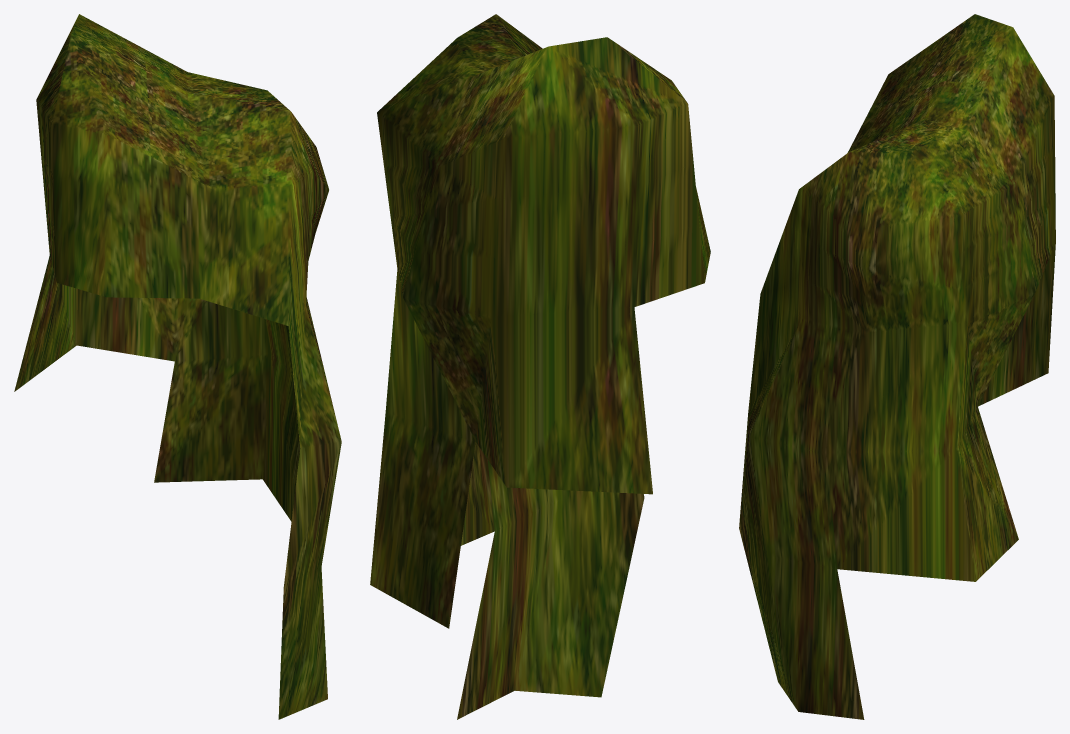
Rendered from TROLLHOLE02_RM_PSURF106.fbx.
3 views of the same model, side by side, from view 1: azimuth 30°, elevation 25°; view 2: azimuth 150°, elevation 25°; view 3: azimuth 270°, elevation 25° (orthographic). The views are drawn at different scales.
Visible parts, largest first — view 1: TROLLHOLE02_RM_PSURF106; view 2: TROLLHOLE02_RM_PSURF106; view 3: TROLLHOLE02_RM_PSURF106.
Part boxes in pixels (x1=…): TROLLHOLE02_RM_PSURF106: x1=14, y1=14, x2=341, y2=719; TROLLHOLE02_RM_PSURF106: x1=370, y1=14, x2=710, y2=719; TROLLHOLE02_RM_PSURF106: x1=739, y1=14, x2=1055, y2=719.
Bounding box in the file's own units: 44289 × 108287 × 50070.
Materials: 1 (1 with a texture image).
